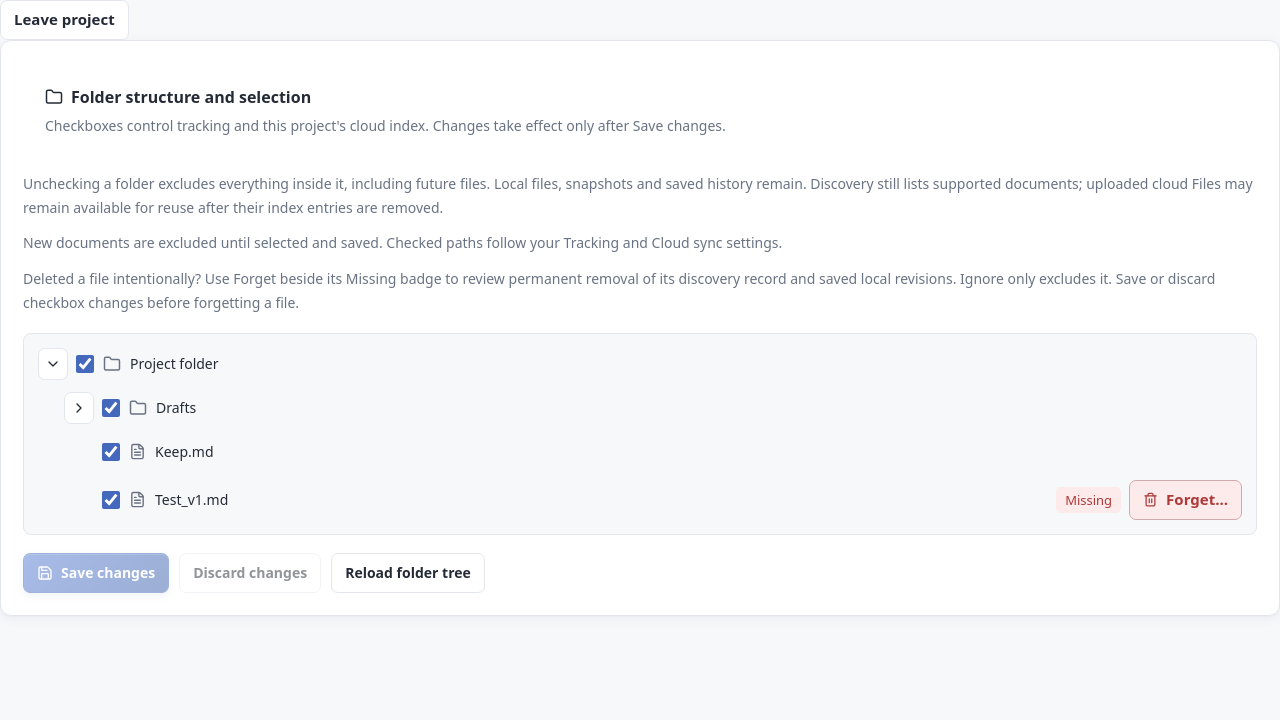
Test: keeps the confirmation and missing row when the backend rejects a stale review
Expected: the checkbox named "Include Drafts" is enabled, left=102, top=399, right=120, bottom=417
Click the button with aria-label "Forget missing Test_v1.md" at (1186, 500), box left=1129, top=480, right=1242, bottom=520
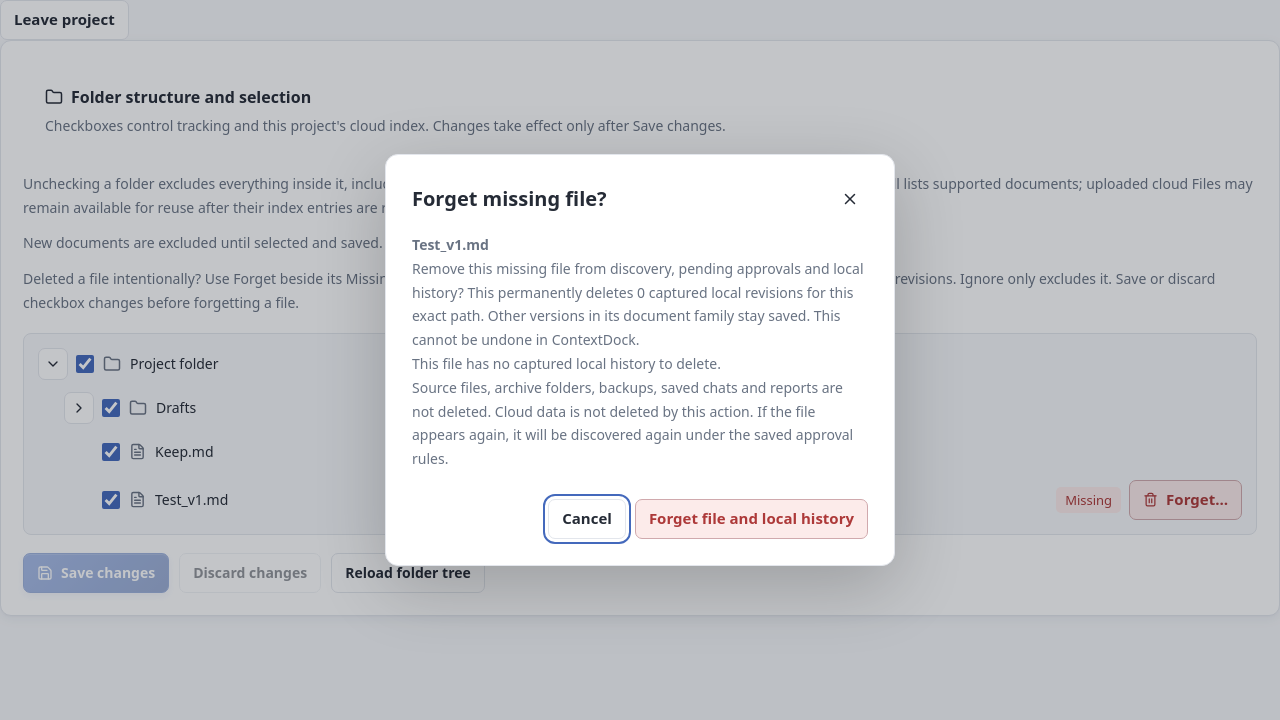
Click the button "Forget file and local history" at (751, 519), box left=635, top=499, right=868, bottom=539
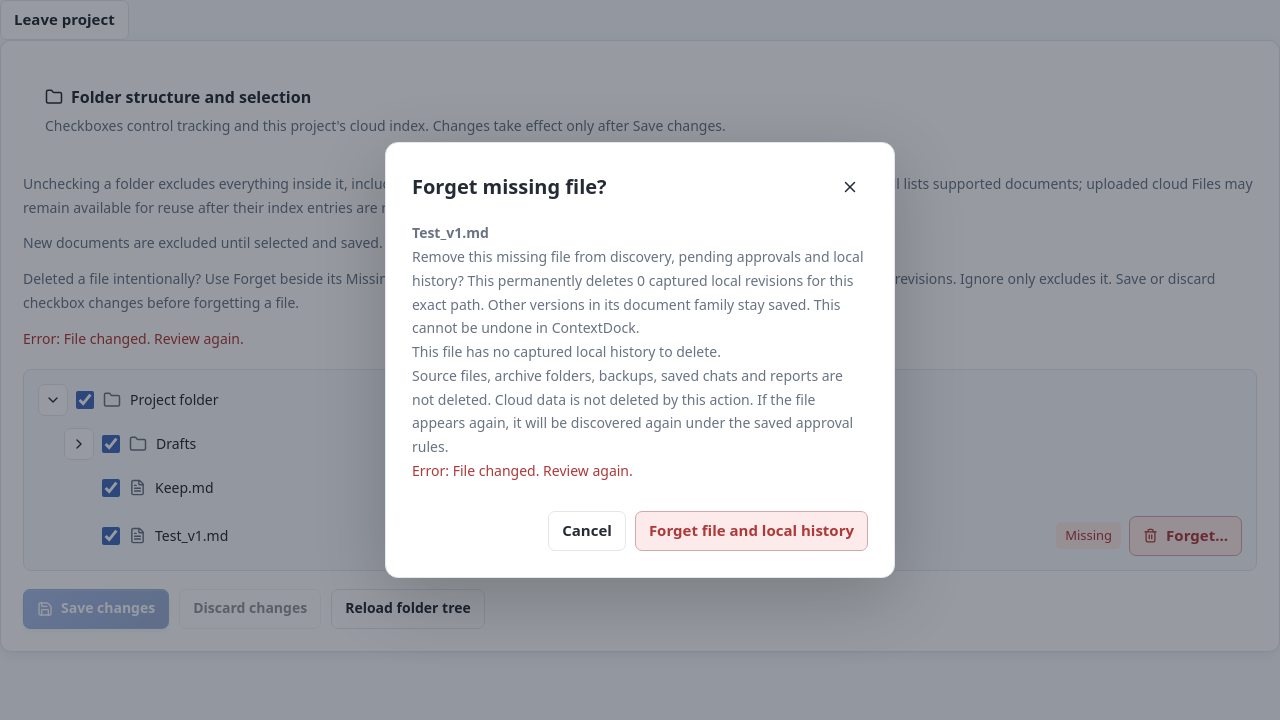
Expected: the checkbox named "Include Test_v1.md" is shown, left=102, top=527, right=120, bottom=545
Expected: the message "Error: File changed. Review again." below "Forget missing file?" is shown, left=412, top=461, right=633, bottom=480
